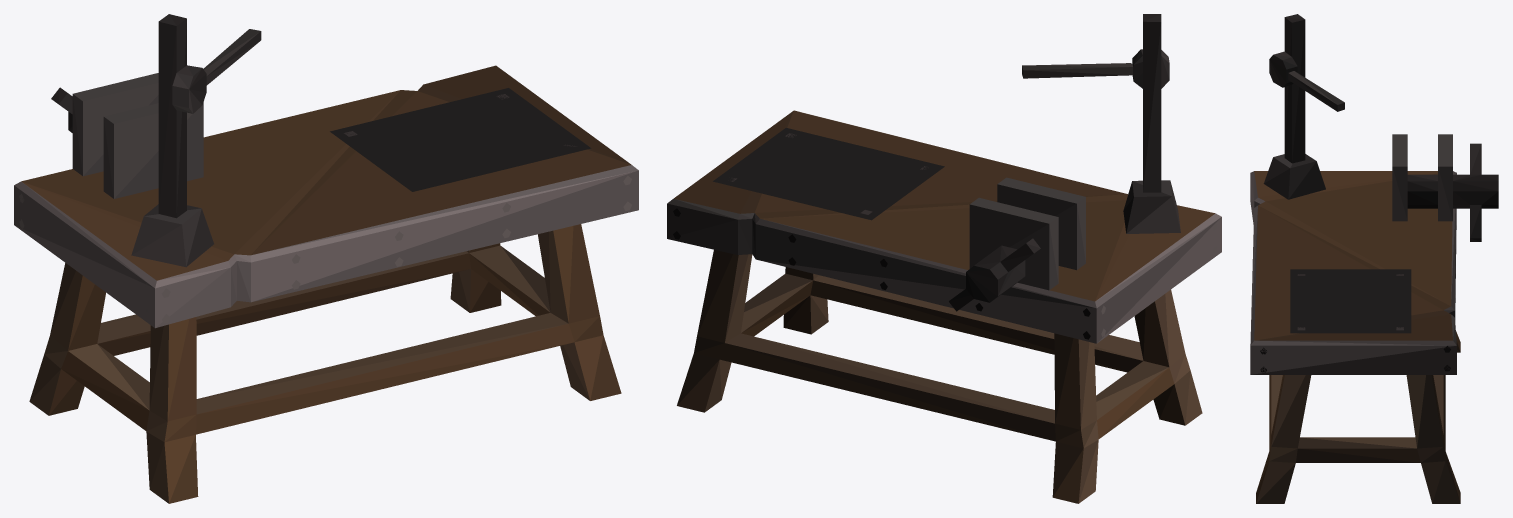
The model's file is fletch.obj.
3 views of the same model, side by side, from view 1: azimuth 30°, elevation 25°; view 2: azimuth 150°, elevation 25°; view 3: azimuth 270°, elevation 25° (orthographic). The views are drawn at different scales.
Parts seen in each view (by area): view 1: Object Work bench 2026-10-08_16-58-20; view 2: Object Work bench 2026-10-08_16-58-20; view 3: Object Work bench 2026-10-08_16-58-20.
Boxes of the visible parts, x1=… form: Object Work bench 2026-10-08_16-58-20: x1=14, y1=14, x2=638, y2=503; Object Work bench 2026-10-08_16-58-20: x1=667, y1=14, x2=1221, y2=503; Object Work bench 2026-10-08_16-58-20: x1=1250, y1=14, x2=1498, y2=503.
Size of the model in its own units: 216 by 195 by 131.
